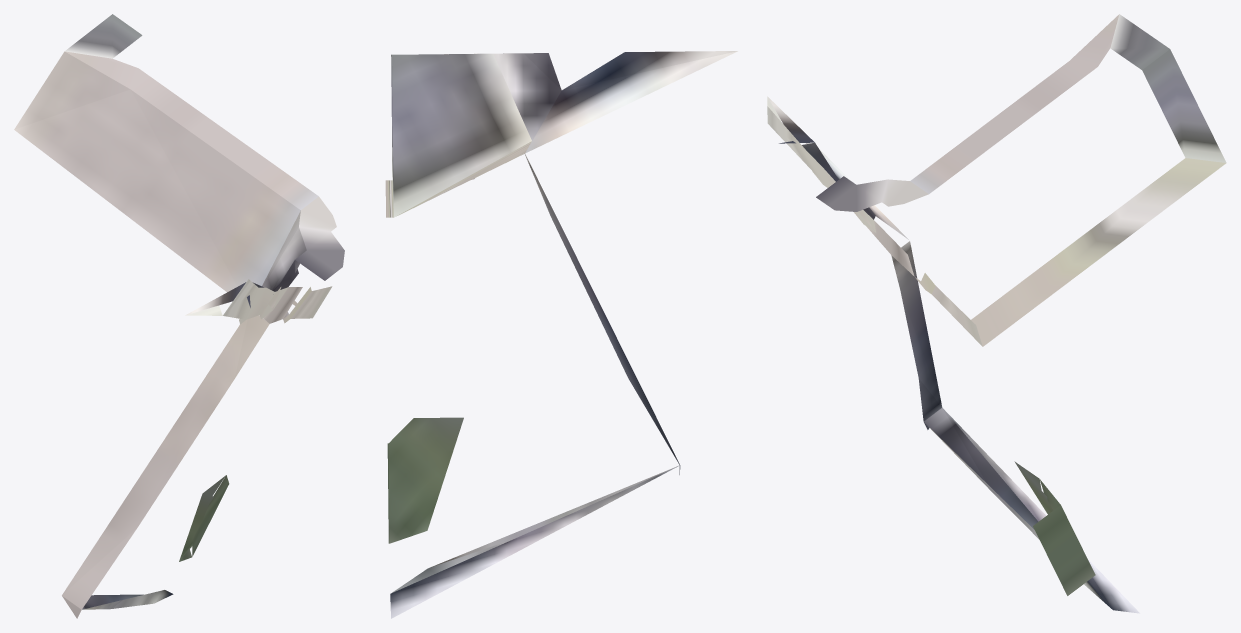
3 renders of one model, left to right at view 1: azimuth 30°, elevation 25°; view 2: azimuth 150°, elevation 25°; view 3: azimuth 270°, elevation 25°, orthographic. The views are drawn at different scales.
Size of the model in its own units: 8.19 by 15.65 by 11.7.
1 material, 1 textured.
